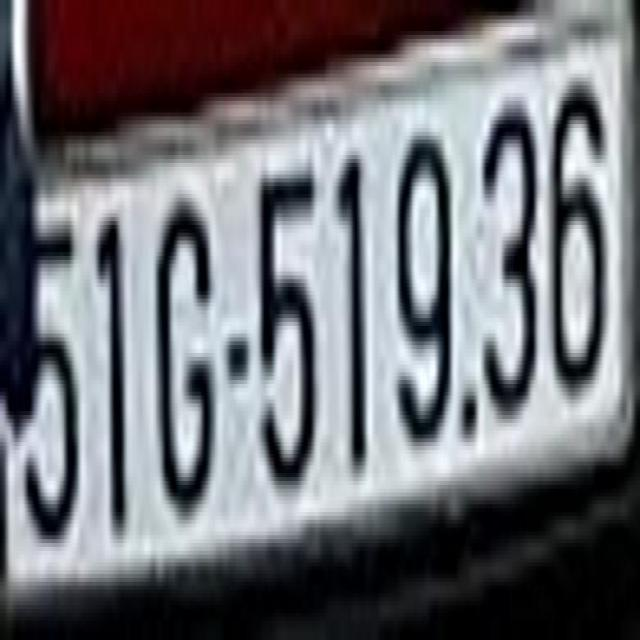1: (328, 136, 370, 512), (92, 198, 124, 551)
3: (479, 93, 538, 427)
5: (21, 221, 82, 555), (258, 163, 320, 489)
6: (550, 58, 608, 400)
9: (399, 117, 452, 470)
G: (156, 183, 216, 532)
